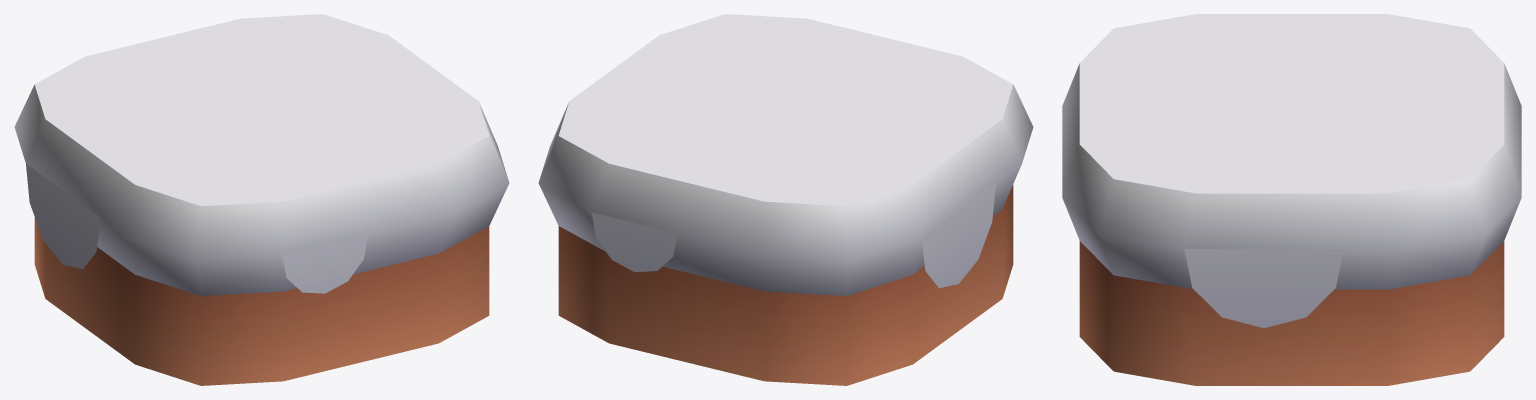
File: kenney-platformer-block-snow-overhang-low.glb
3 views of the same model, side by side, from view 1: azimuth 30°, elevation 25°; view 2: azimuth 150°, elevation 25°; view 3: azimuth 270°, elevation 25° (orthographic). The views are drawn at different scales.
Parts seen in each view (by area): view 1: block-snow-overhang-low; view 2: block-snow-overhang-low; view 3: block-snow-overhang-low.
Boxes of the visible parts, x1,y1,x2,y2 form: block-snow-overhang-low: (14,14,509,385); block-snow-overhang-low: (538,14,1033,385); block-snow-overhang-low: (1062,14,1521,385).
Size of the model in its own units: 1.08 by 0.5 by 1.08.
Materials: 1 (1 with a texture image).
